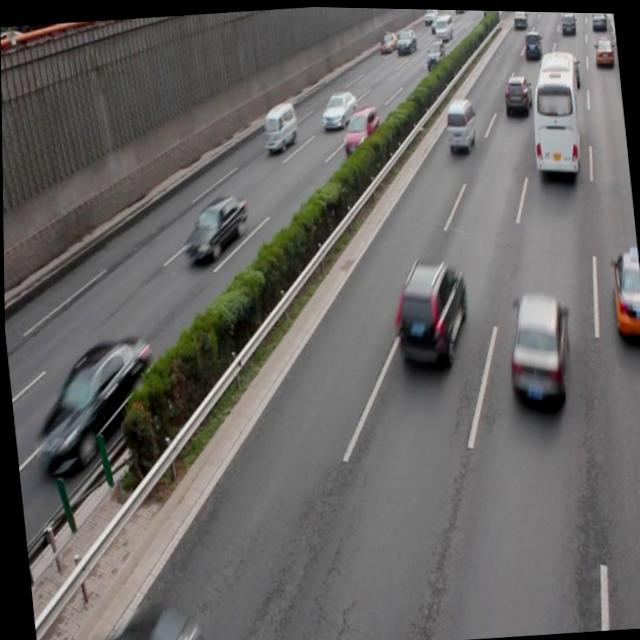car: (25, 331, 162, 476), (386, 252, 470, 372), (500, 286, 573, 406), (179, 191, 250, 264), (607, 245, 640, 342), (338, 102, 381, 156), (316, 86, 356, 128), (499, 70, 531, 116)
truck: (260, 100, 298, 153), (442, 96, 475, 150)
van: (523, 45, 583, 175)
